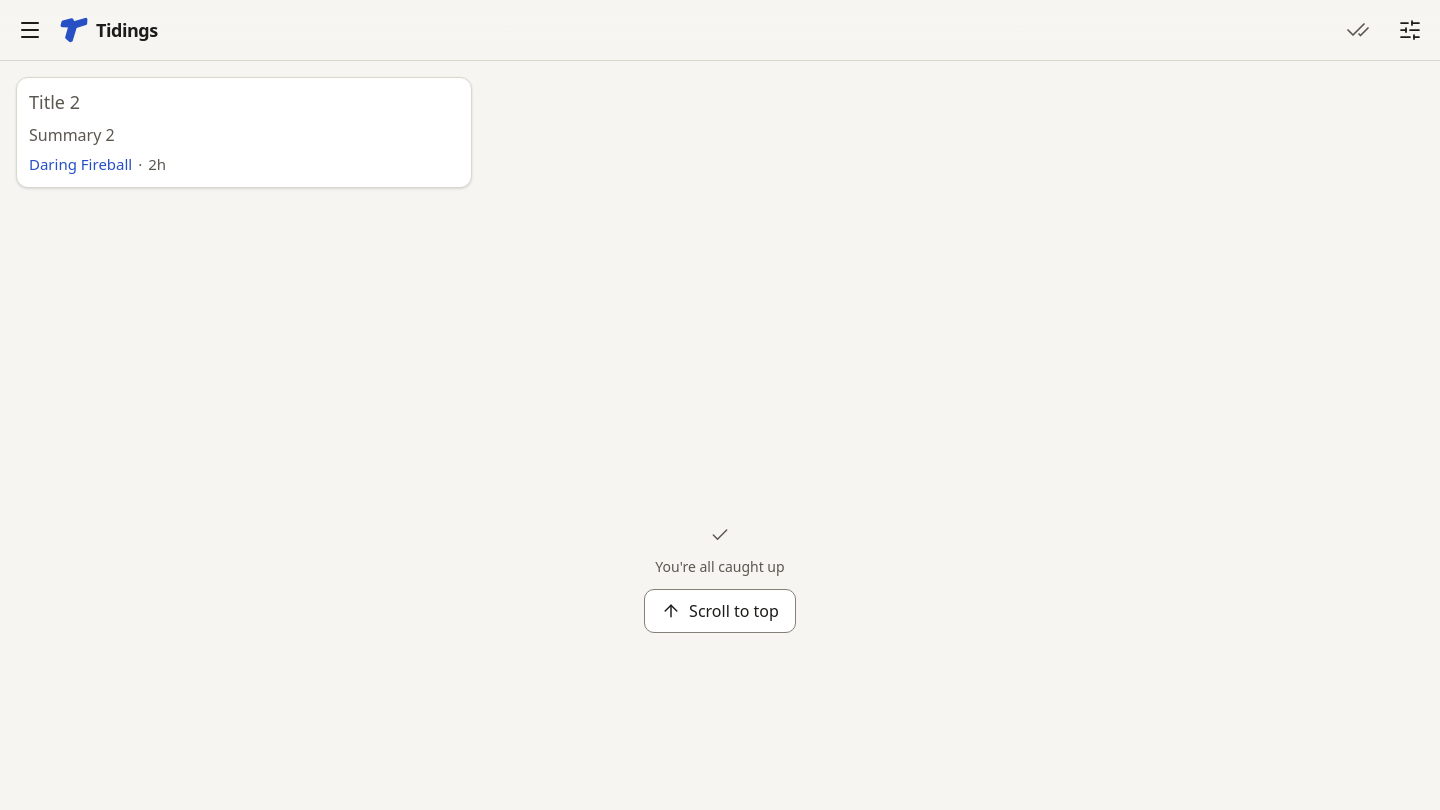
Test: AC2: unread only and the setting › starts as All articles when the setting unreadOnly is false
The width and height of the screenshot is (1440, 810).
Check: the heading "Title 2" is shown, box [29,90,80,114]
Click the button named "Filters": (1410, 30) [1388,8,1432,52]
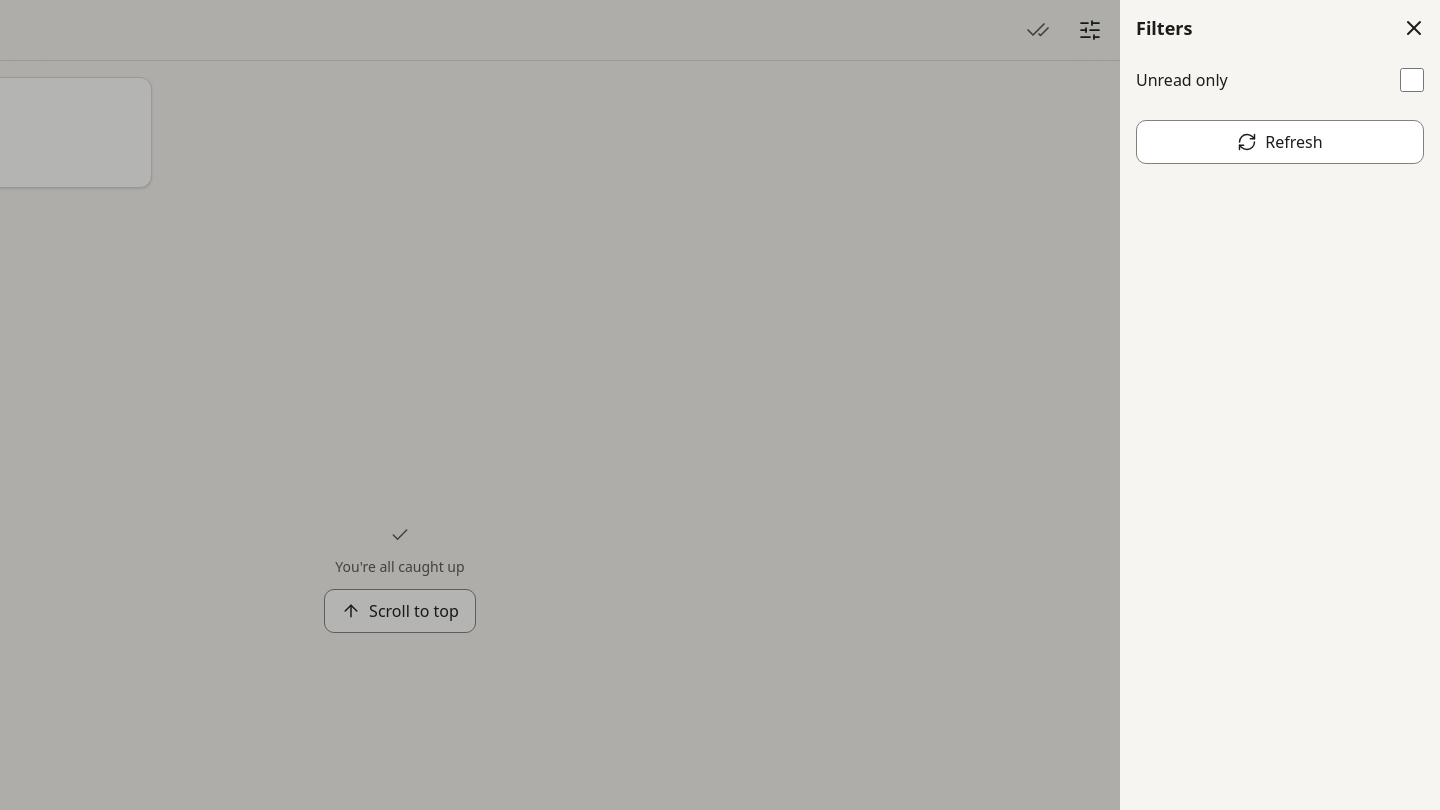
Check: the switch labelled "Unread only" is not checked, box [1400,68,1424,92]
